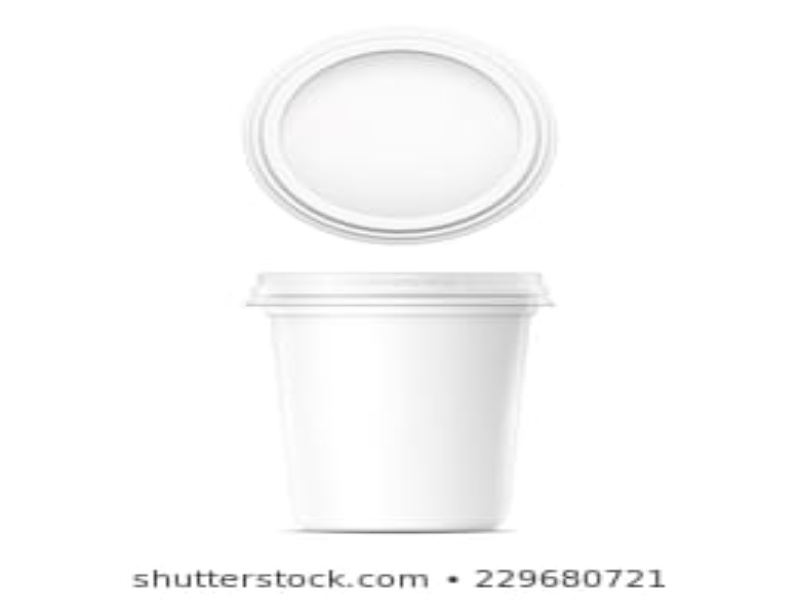coffee-lid: (242, 263, 559, 311)
plastic-cup: (248, 267, 554, 538)
plastic-plate: (242, 23, 555, 242)
